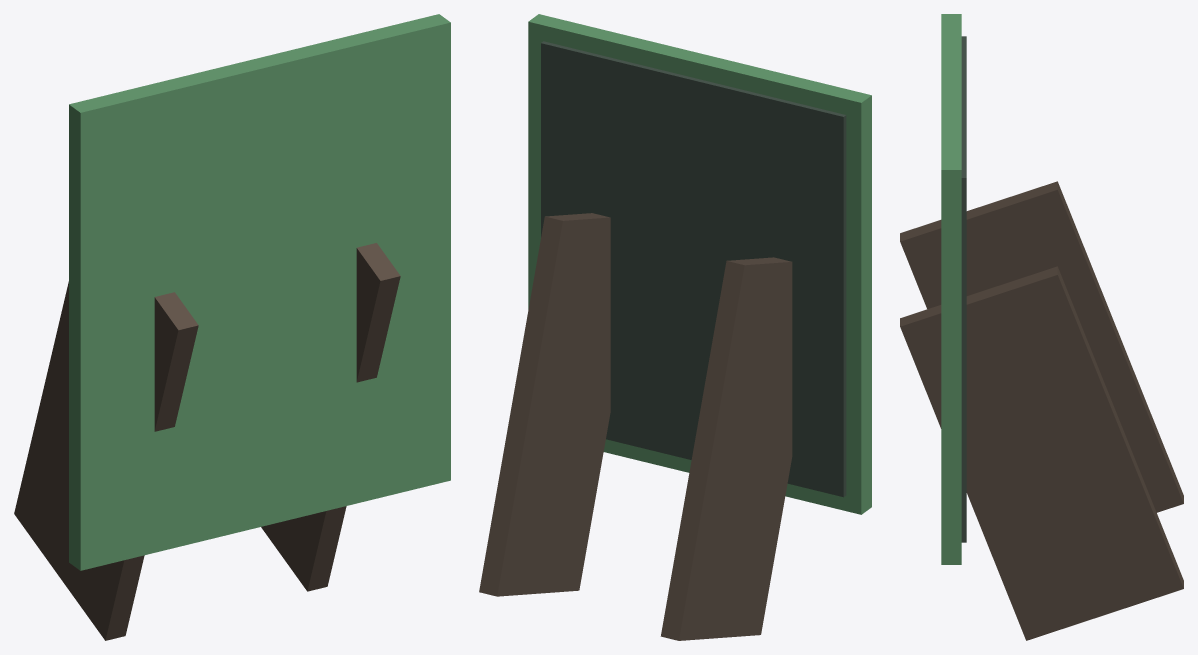
The model's file is prop_tate_blackboard_b.glb.
3 views of the same model, side by side, from view 1: azimuth 30°, elevation 25°; view 2: azimuth 150°, elevation 25°; view 3: azimuth 270°, elevation 25° (orthographic). The views are drawn at different scales.
Visible parts, largest first — view 1: tate_blackboard_b; view 2: tate_blackboard_b; view 3: tate_blackboard_b.
Boxes of the visible parts, bbox=[...] form: tate_blackboard_b: bbox=[14, 14, 450, 640]; tate_blackboard_b: bbox=[479, 14, 871, 640]; tate_blackboard_b: bbox=[900, 14, 1183, 640].
Size of the model in its own units: 1.1 by 1.65 by 0.8461.
